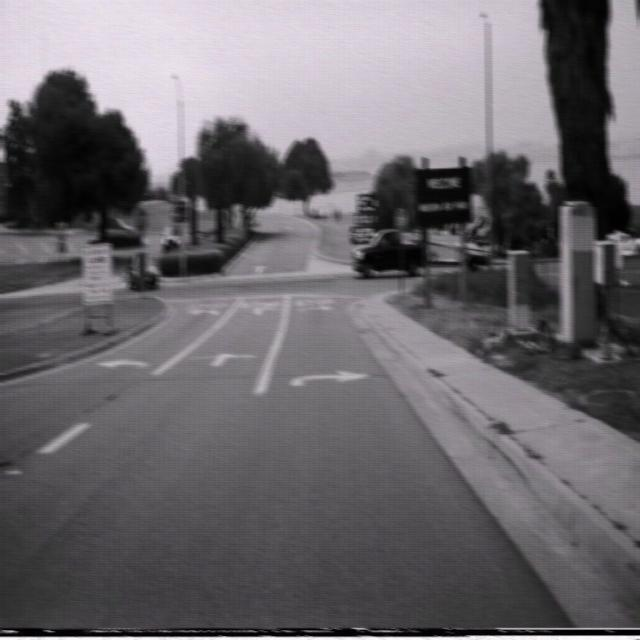stop: (132, 206, 148, 233), (393, 206, 408, 233)
